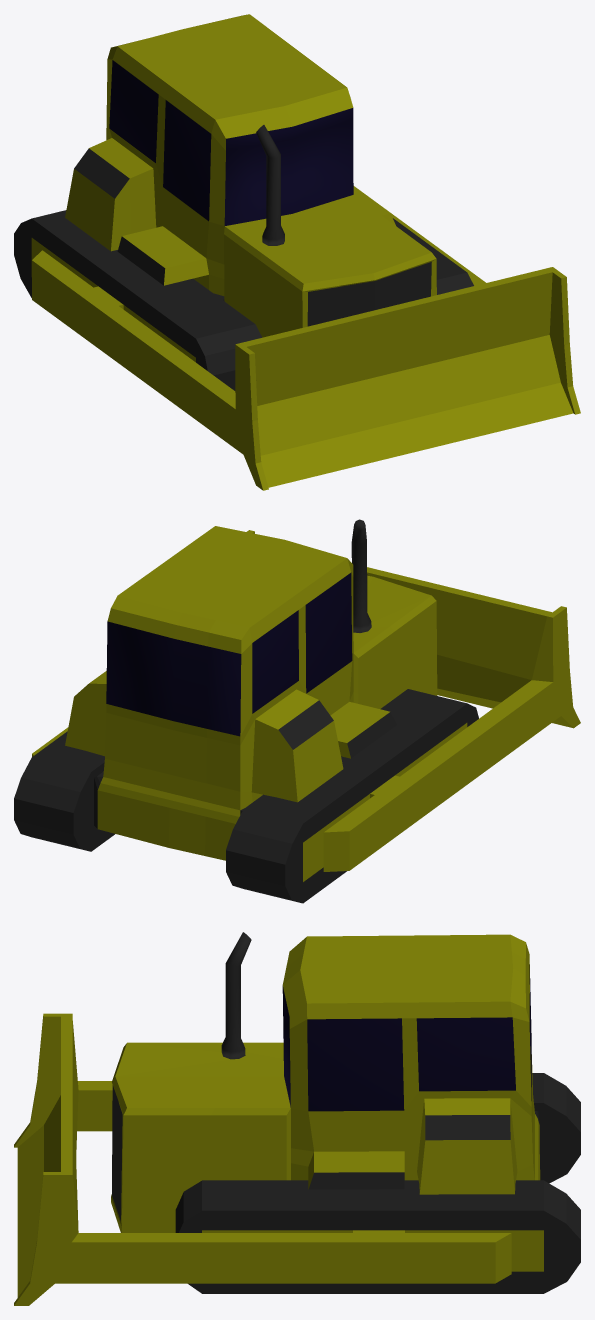
File: Bulldozer.fbx
The picture shows the model from 3 angles, top to bottom: view 1: azimuth 30°, elevation 25°; view 2: azimuth 150°, elevation 25°; view 3: azimuth 270°, elevation 25°; orthographic projection. The views are drawn at different scales.
Parts seen in each view (by area): view 1: Cube; view 2: Cube; view 3: Cube.
Boxes of the visible parts, bbox=[...] form: Cube: bbox=[14, 14, 580, 490]; Cube: bbox=[14, 519, 580, 903]; Cube: bbox=[14, 932, 580, 1305].
Size of the model in its own units: 1209 by 937 by 1796.
